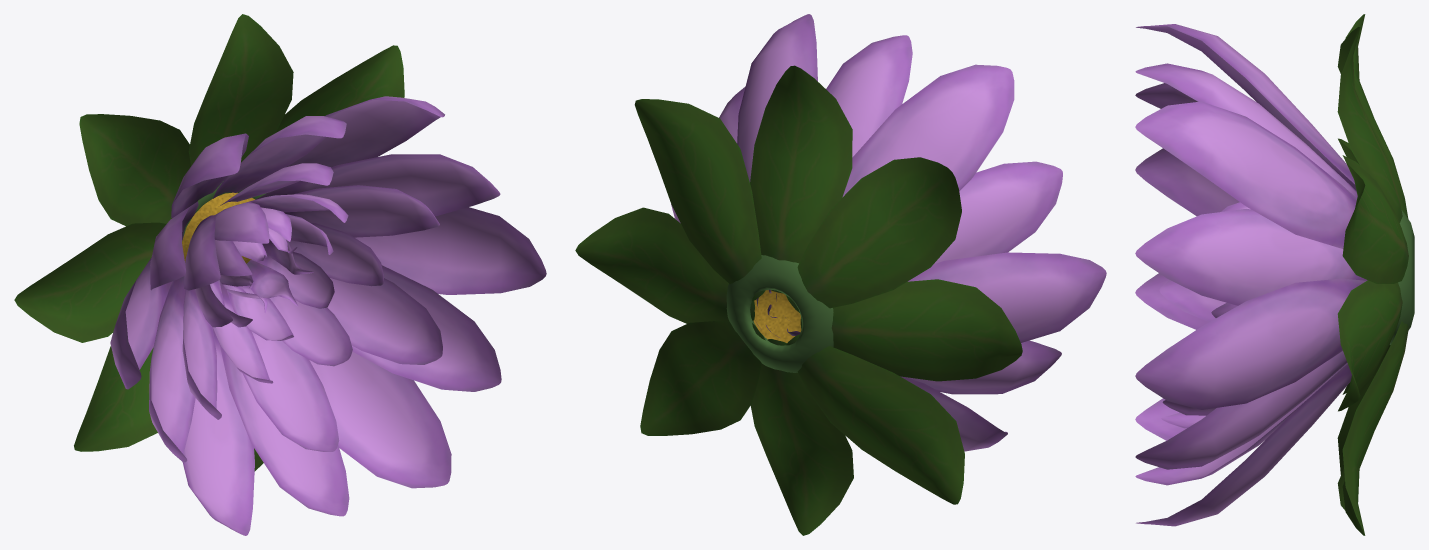
File: Flower_Lotus-filtered.obj
3 views of the same model, side by side, from view 1: azimuth 30°, elevation 25°; view 2: azimuth 150°, elevation 25°; view 3: azimuth 270°, elevation 25° (orthographic). The views are drawn at different scales.
Visible parts, largest first — view 1: Flower_Lotus-Stylized; view 2: Flower_Lotus-Stylized; view 3: Flower_Lotus-Stylized.
Boxes of the visible parts, x1=… form: Flower_Lotus-Stylized: x1=14, y1=14, x2=546, y2=535; Flower_Lotus-Stylized: x1=575, y1=14, x2=1106, y2=535; Flower_Lotus-Stylized: x1=1135, y1=14, x2=1414, y2=535.
Size of the model in its own units: 0.2223 by 0.2223 by 0.1126.
